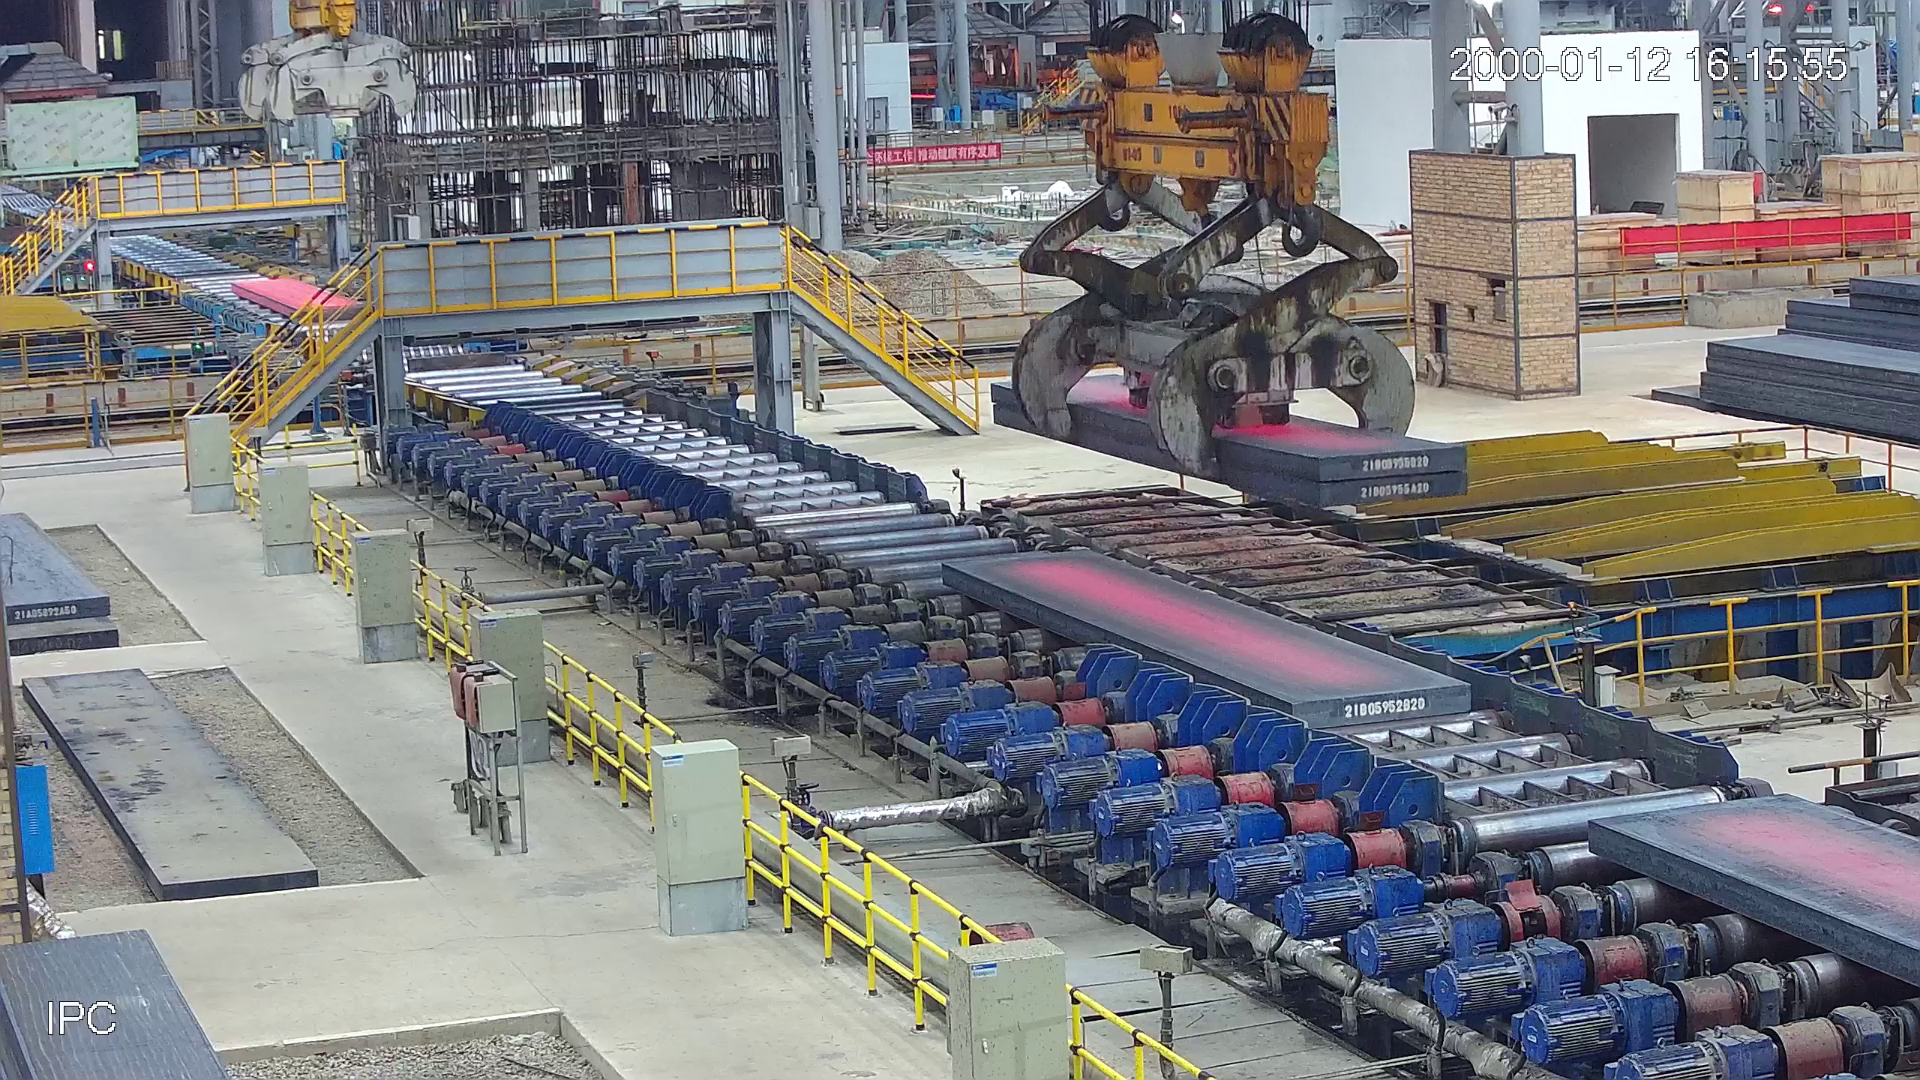crane: (240, 1, 417, 129)
craneandslab: (992, 1, 1466, 504)
slab: (940, 554, 1474, 731), (1592, 794, 1920, 1000), (228, 280, 376, 322)
